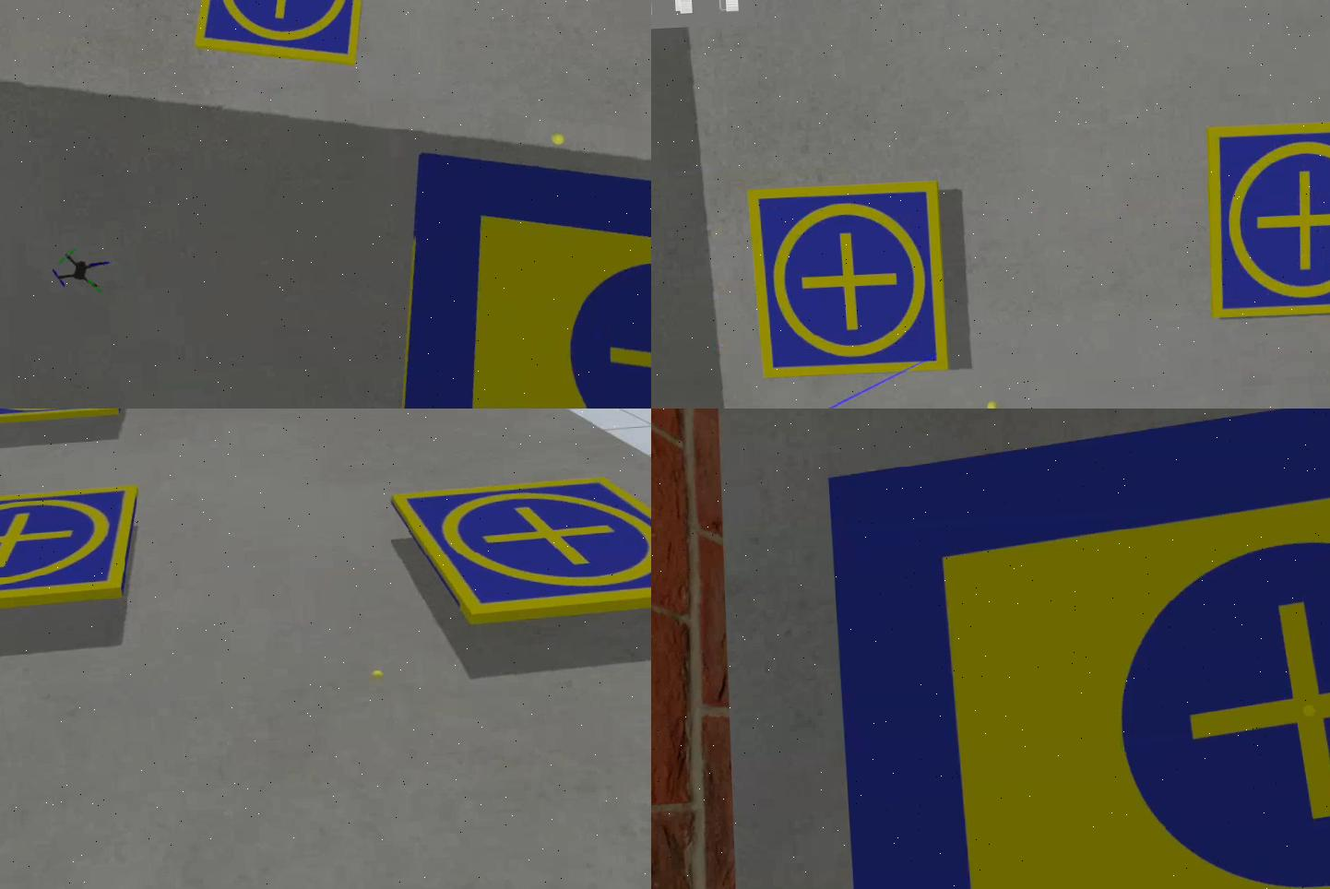large_base: (819, 409, 1330, 889), (373, 123, 652, 409)
small_base: (742, 175, 956, 386), (388, 466, 652, 634), (1200, 113, 1330, 327), (1, 487, 151, 618), (187, 1, 382, 82), (1, 409, 136, 433)
